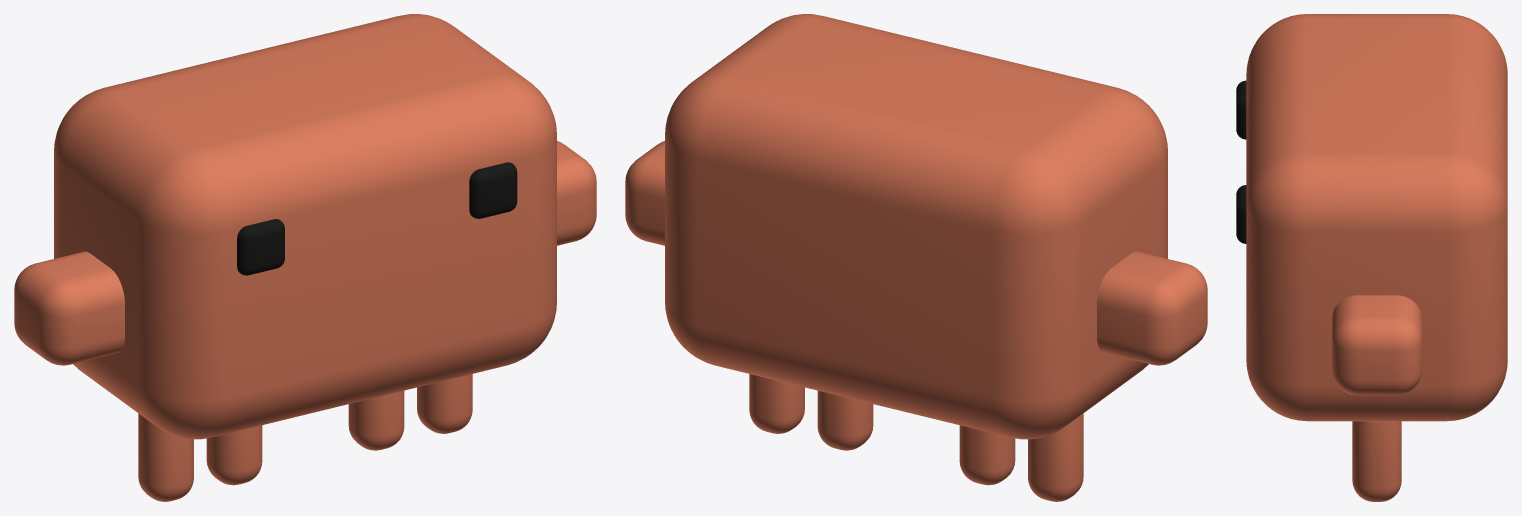
File: clawd.glb
3 renders of one model, left to right at view 1: azimuth 30°, elevation 25°; view 2: azimuth 150°, elevation 25°; view 3: azimuth 270°, elevation 25°, orthographic. The views are drawn at different scales.
Visible parts, largest first — view 1: Body, ArmL, Leg0, ArmR, Leg2, Leg1, Leg3, EyeR, EyeL; view 2: Body, ArmL, Leg0, ArmR, Leg2, Leg1, Leg3; view 3: Body, ArmR, Leg3, EyeL, EyeR.
Part boxes in pixels (x1,y1,x2,y2): Body: (54,14,556,439); ArmL: (14,251,124,365); Leg0: (138,413,193,501); ArmR: (557,141,596,245); Leg2: (348,390,404,450); Leg1: (206,425,262,485); Leg3: (417,374,472,433); EyeR: (469,162,517,218); EyeL: (237,219,284,275); Body: (665,14,1167,439); ArmL: (1097,251,1207,365); Leg0: (1028,413,1083,501); ArmR: (625,141,664,245); Leg2: (817,390,873,450); Leg1: (959,425,1015,485); Leg3: (749,374,804,433); Body: (1246,14,1507,421); ArmR: (1332,295,1421,395); Leg3: (1352,421,1401,501); EyeL: (1236,80,1246,139); EyeR: (1236,185,1246,243).
Size of the model in its own units: 4.06 by 2.66 by 1.87.
